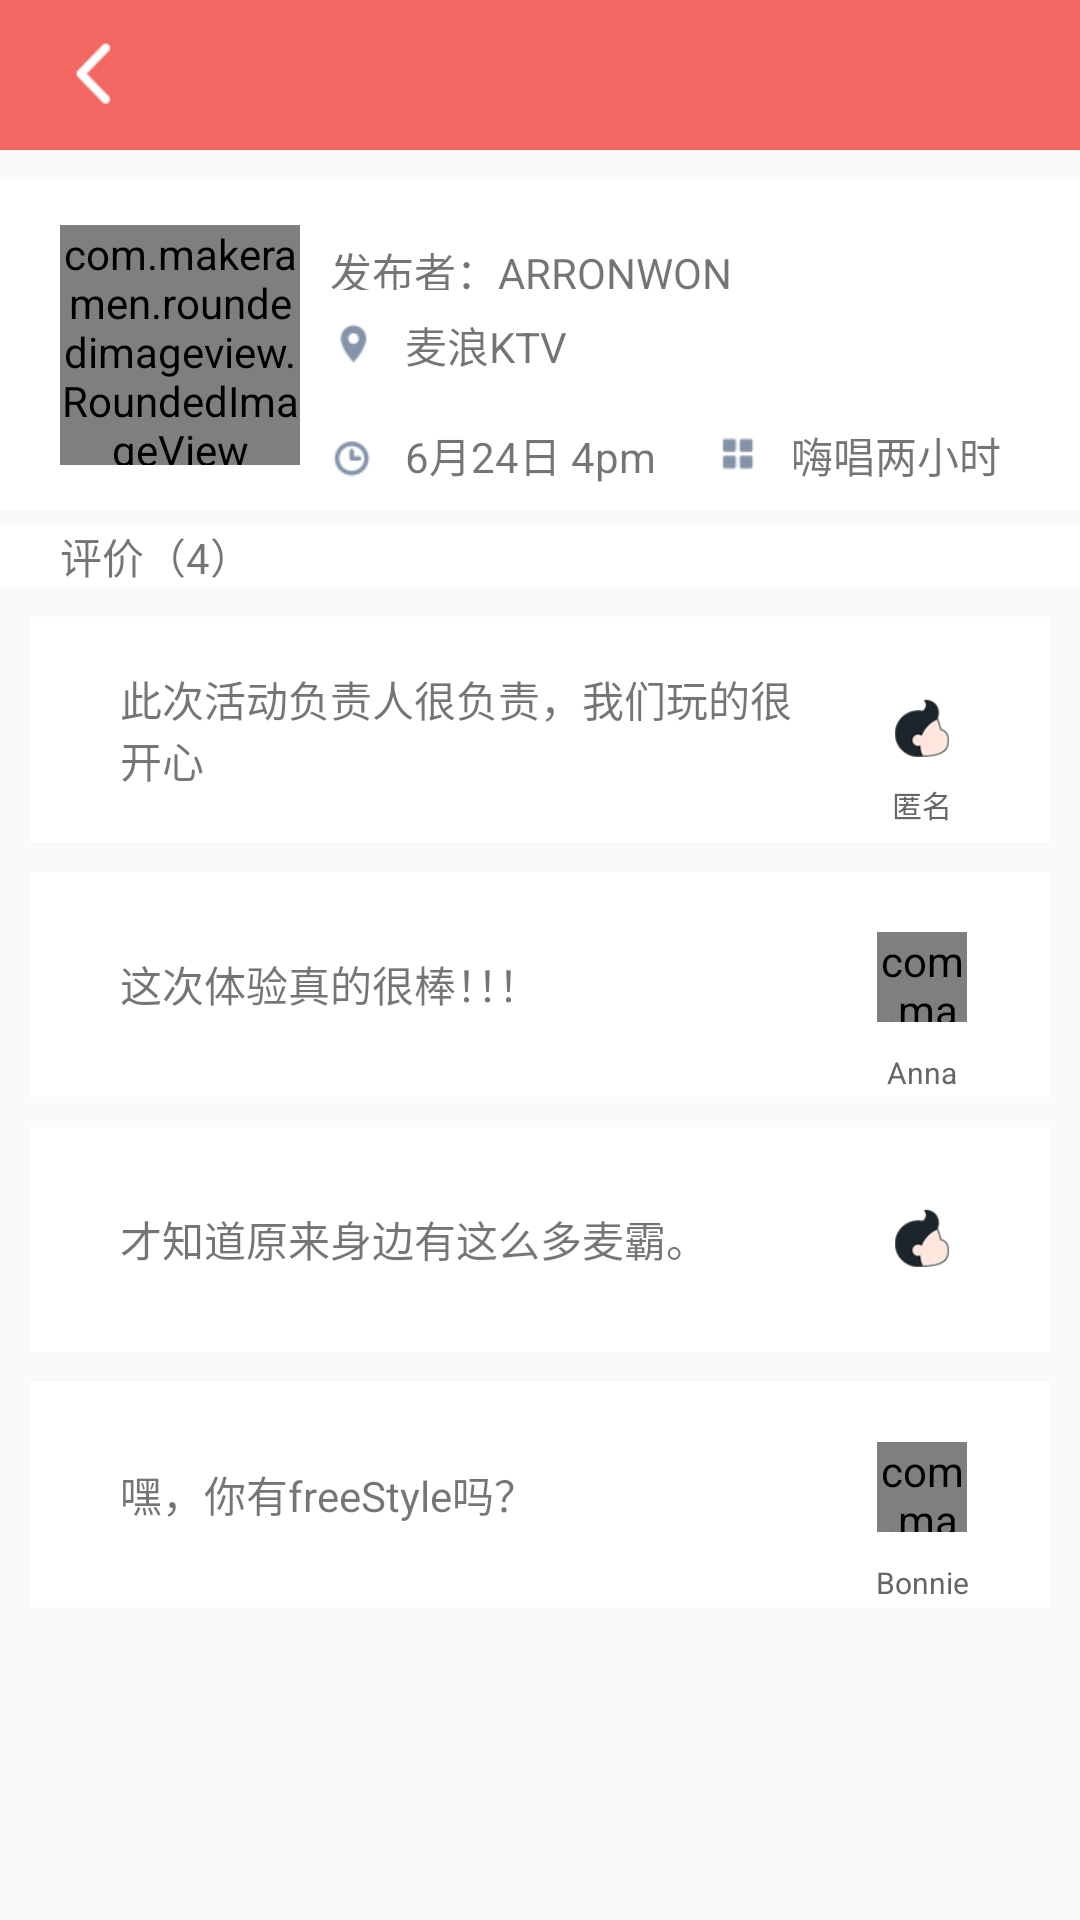

Icons on this 1080×1920 Android screen, each with the point to tap as point (x, y):
head: point (922, 728), point (922, 1238)
